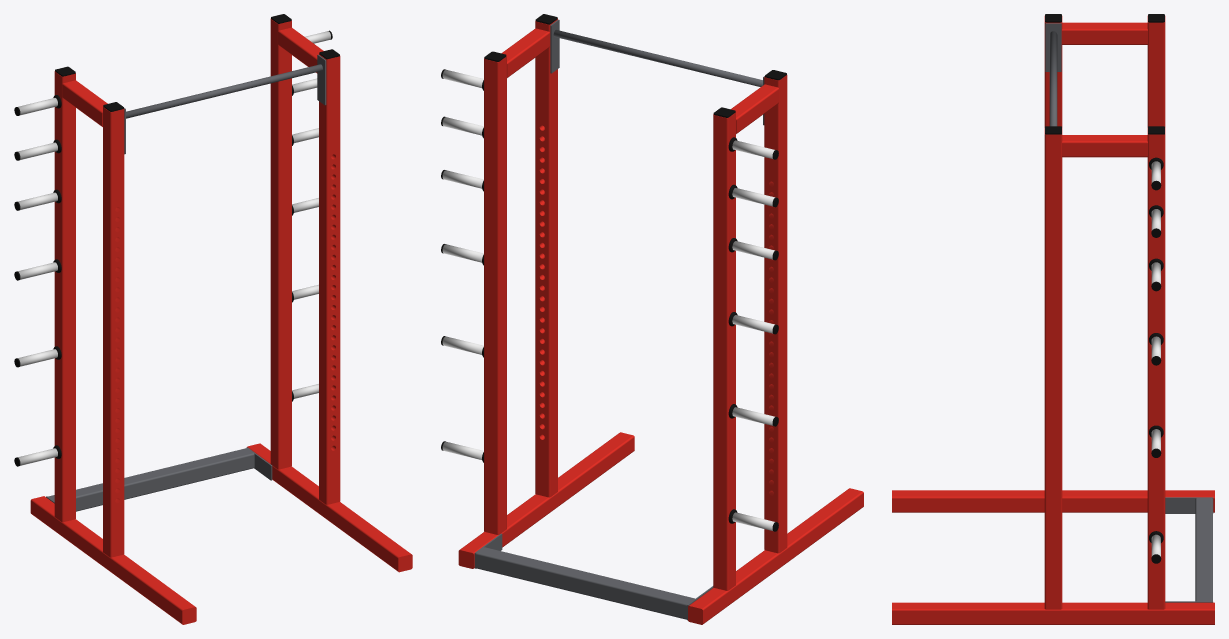
The model's file is half-cage.glb.
The picture shows the model from 3 angles, left to right: view 1: azimuth 30°, elevation 25°; view 2: azimuth 150°, elevation 25°; view 3: azimuth 270°, elevation 25°; orthographic projection. The views are drawn at different scales.
Parts seen in each view (by area): view 1: Cube, Cube.001, Cube.004, Cube.002, Left upright, Right upright, Bottom crossmember, Pull up bar, Cube.003, Cube.005; view 2: Cube.004, Cube.002, Cube, Cube.001, Bottom crossmember, Left upright, Right upright, Pull up bar, Cube.003, Cube.005; view 3: Cube.001, Right upright, Cube.004, Left upright, Cube.002, Cube.003, Cube.005, Bottom crossmember, Cube, Pull up bar, Cube.008, Cube.006.
Part boxes in pixels (bbox=[...]): Cube: bbox=[103, 106, 124, 557]; Cube.001: bbox=[319, 54, 340, 504]; Cube.004: bbox=[270, 18, 291, 469]; Cube.002: bbox=[54, 71, 75, 522]; Left upright: bbox=[30, 496, 196, 624]; Right upright: bbox=[247, 443, 412, 572]; Bottom crossmember: bbox=[48, 448, 254, 511]; Pull up bar: bbox=[126, 64, 322, 118]; Cube.003: bbox=[62, 80, 107, 126]; Cube.005: bbox=[278, 27, 323, 73]; Cube.004: bbox=[484, 56, 506, 534]; Cube.002: bbox=[713, 112, 735, 590]; Cube: bbox=[764, 75, 787, 553]; Cube.001: bbox=[535, 18, 557, 497]; Bottom crossmember: bbox=[476, 547, 694, 619]; Left upright: bbox=[688, 488, 863, 624]; Right upright: bbox=[458, 432, 634, 568]; Pull up bar: bbox=[553, 30, 762, 86]; Cube.003: bbox=[731, 84, 779, 133]; Cube.005: bbox=[501, 28, 549, 77]; Cube.001: bbox=[1044, 128, 1062, 609]; Right upright: bbox=[892, 602, 1214, 624]; Cube.004: bbox=[1147, 128, 1165, 609]; Left upright: bbox=[892, 490, 1214, 512]; Cube.002: bbox=[1147, 16, 1165, 127]; Cube.003: bbox=[1062, 22, 1147, 44]; Cube.005: bbox=[1062, 135, 1147, 157]; Bottom crossmember: bbox=[1195, 498, 1212, 601]; Cube: bbox=[1044, 16, 1062, 127]; Pull up bar: bbox=[1049, 31, 1057, 126]; Cube.008: bbox=[1165, 497, 1213, 513]; Cube.006: bbox=[1045, 23, 1061, 71].
Bounding box in the file's own units: 1.66 × 2.34 × 1.39.
